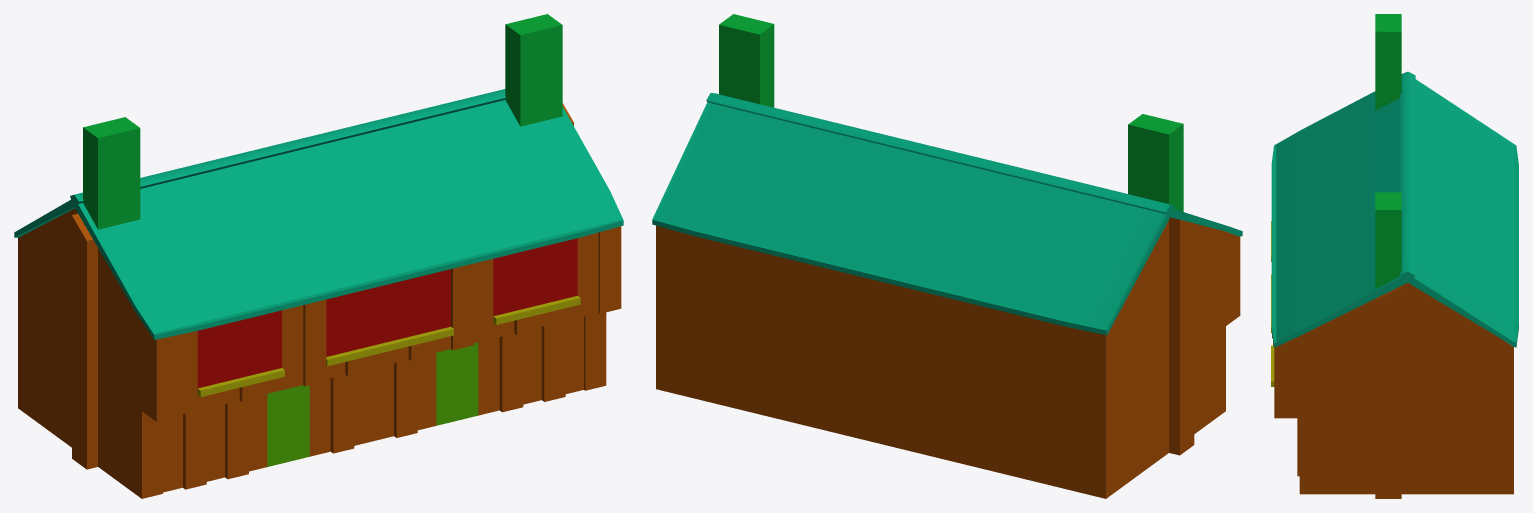
Rendered from Low Income Housing.fbx.
3 renders of one model, left to right at view 1: azimuth 30°, elevation 25°; view 2: azimuth 150°, elevation 25°; view 3: azimuth 270°, elevation 25°, orthographic. The views are drawn at different scales.
Visible parts, largest first — view 1: pCube3; view 2: pCube3; view 3: pCube3.
Boxes of the visible parts, x1=… form: pCube3: x1=14, y1=14, x2=623, y2=498; pCube3: x1=652, y1=14, x2=1242, y2=498; pCube3: x1=1271, y1=14, x2=1518, y2=498.
Size of the model in its own units: 24.31 by 15.68 by 12.38.
